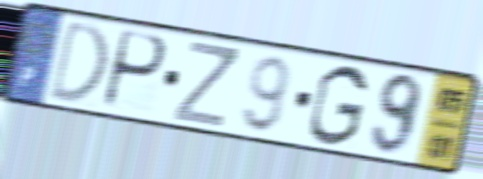9: (369, 71, 427, 160), (239, 53, 295, 136)
D: (45, 16, 112, 105)
G: (305, 62, 371, 149)
P: (98, 27, 171, 113)
Z: (170, 38, 241, 131)
